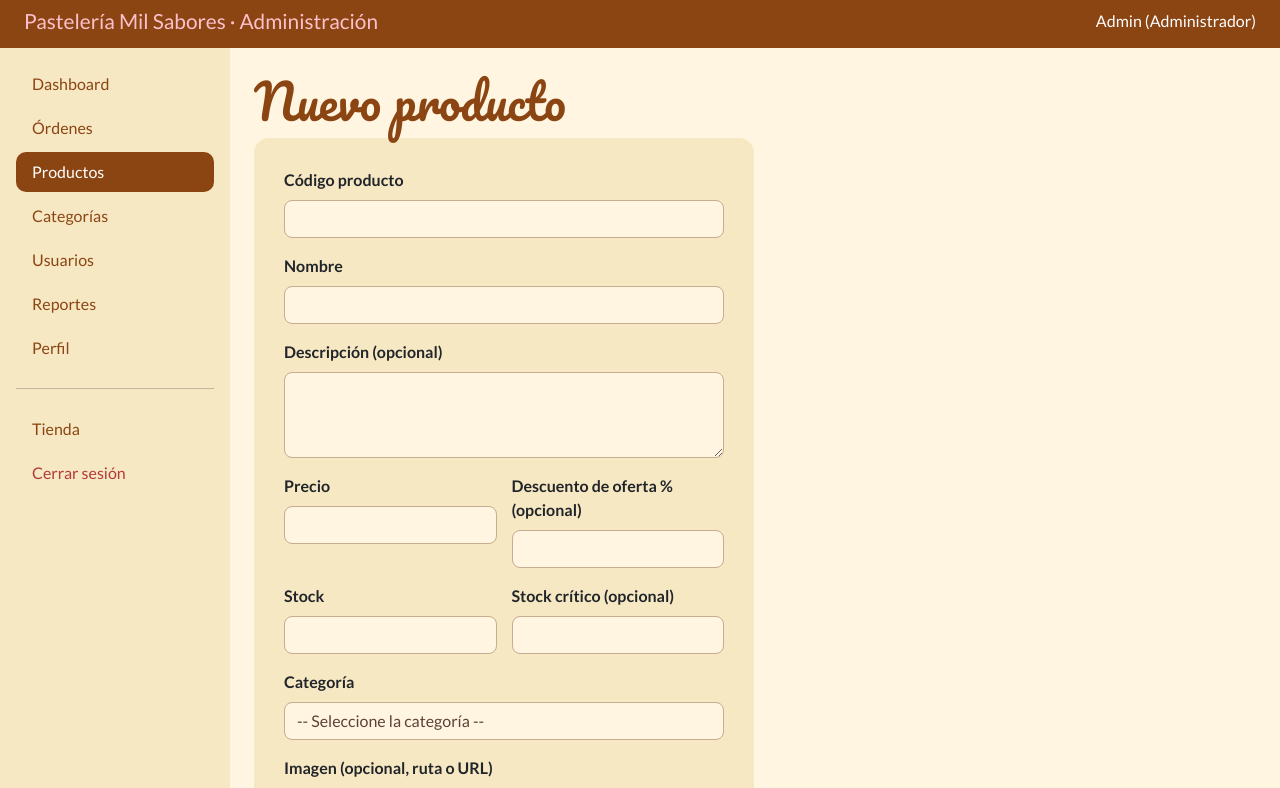
it: Admin: formulario de producto › crea un producto nuevo y vuelve al listado
Type "TX001" into the field labelled "Código producto" at (504, 219), box [284,200,724,238]
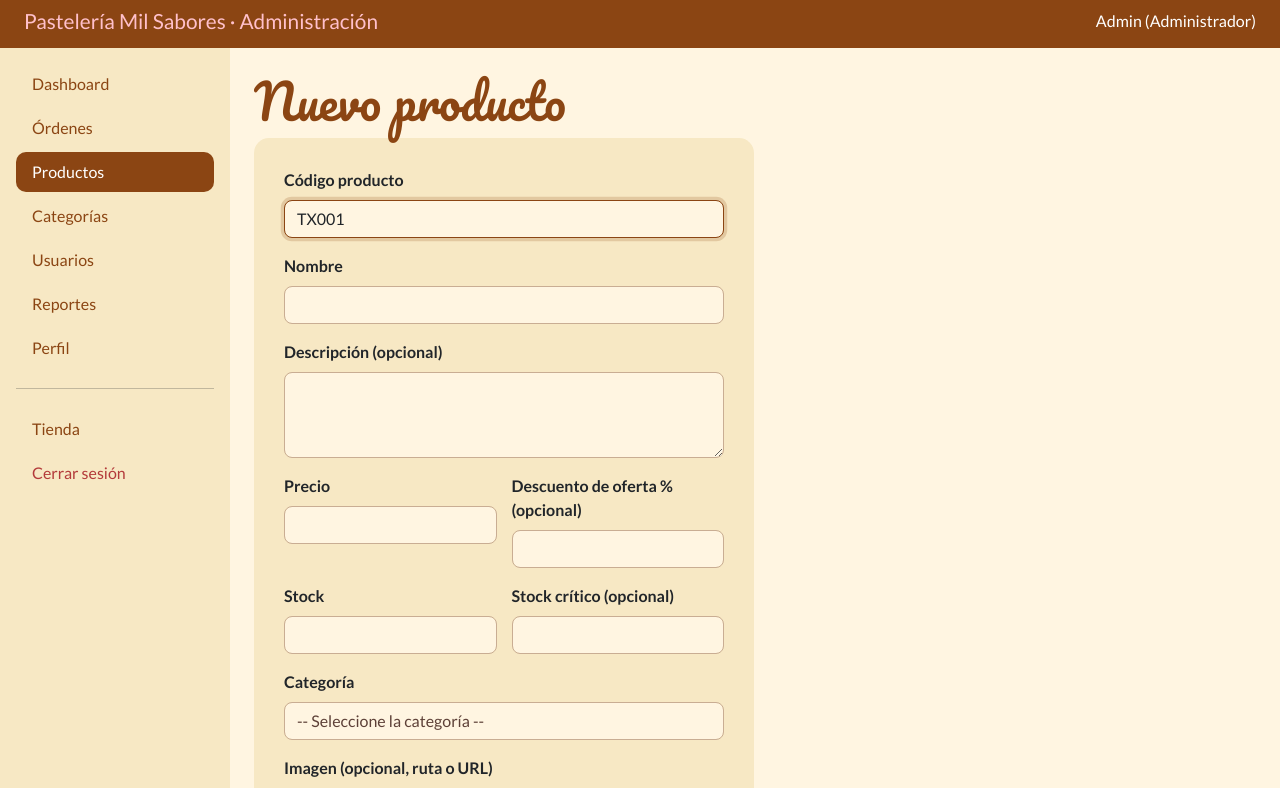
Type "Torta de Prueba" into the field labelled "Nombre" at (504, 305), box [284,286,724,324]
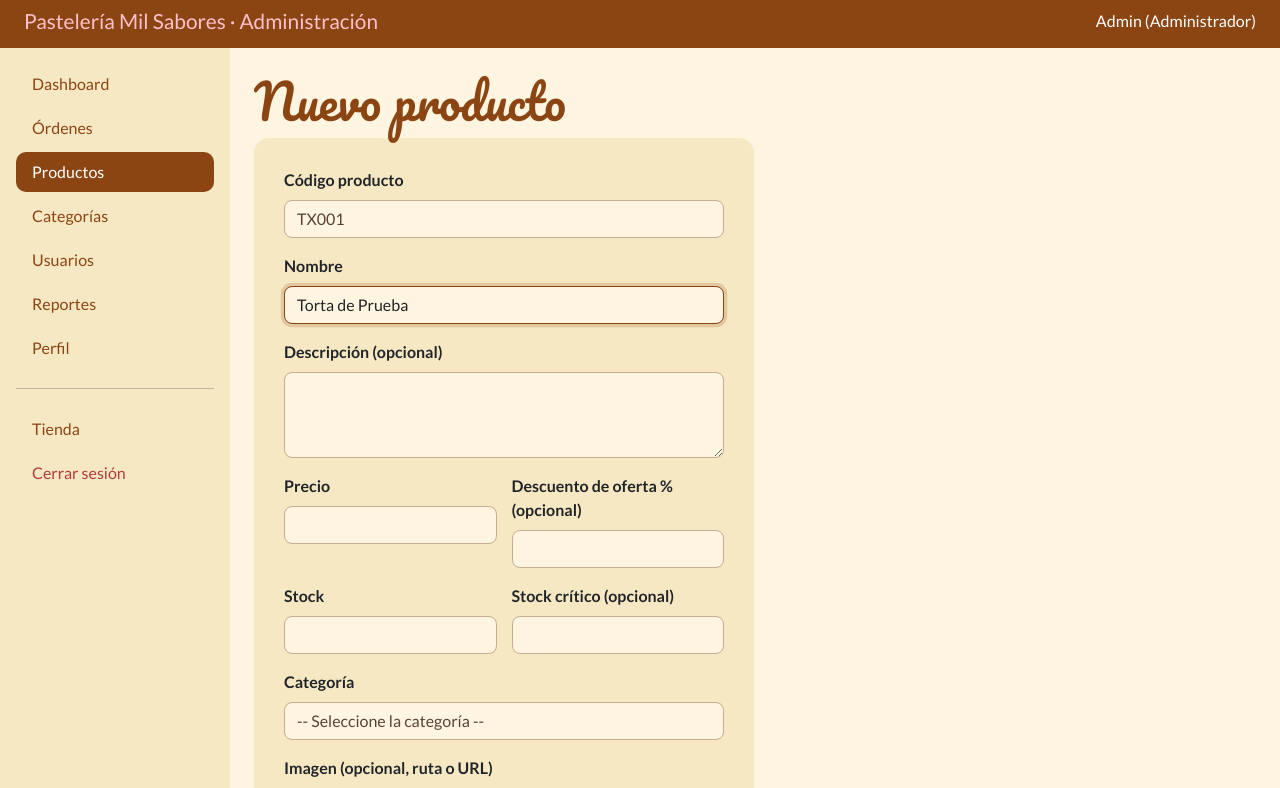
Type "1000" into the number field labelled "Precio" at (390, 525), box [284,506,496,544]
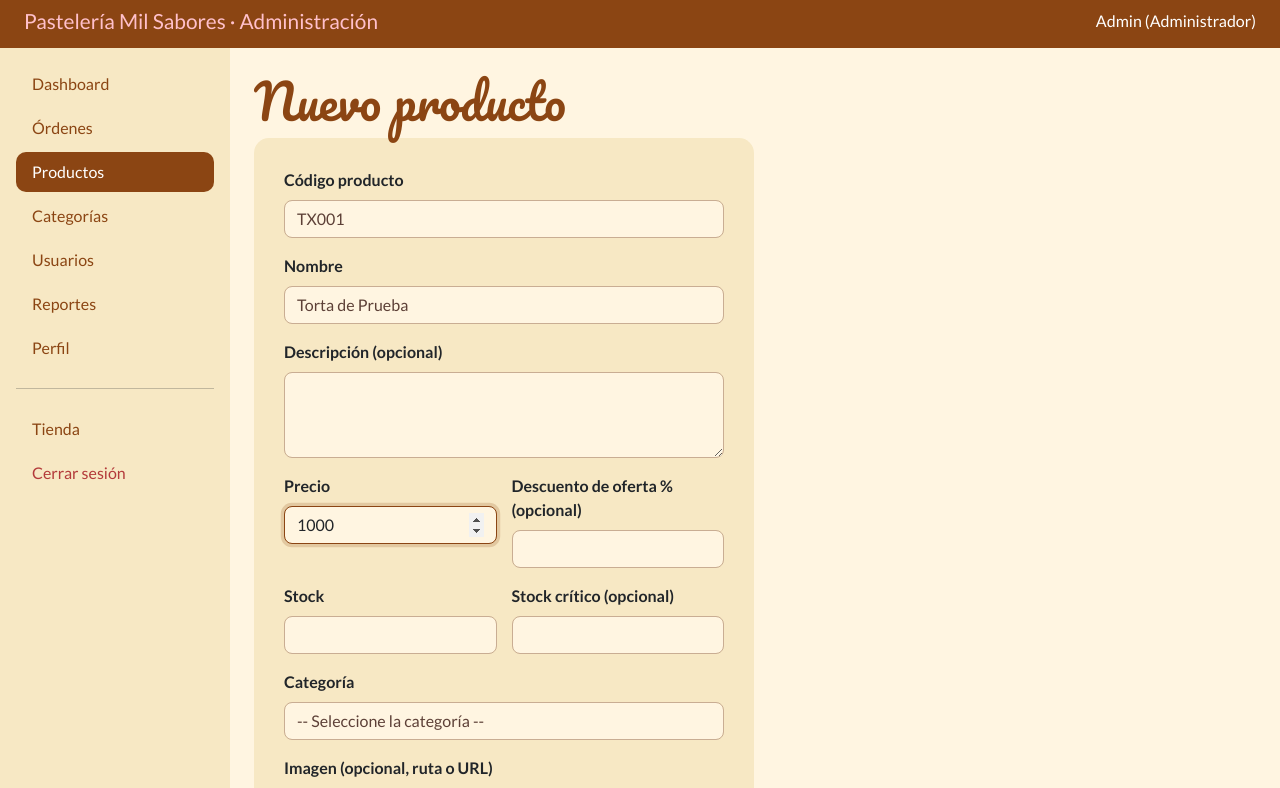
Type "5" into the number field labelled "Stock" at (390, 635), box [284,616,496,654]
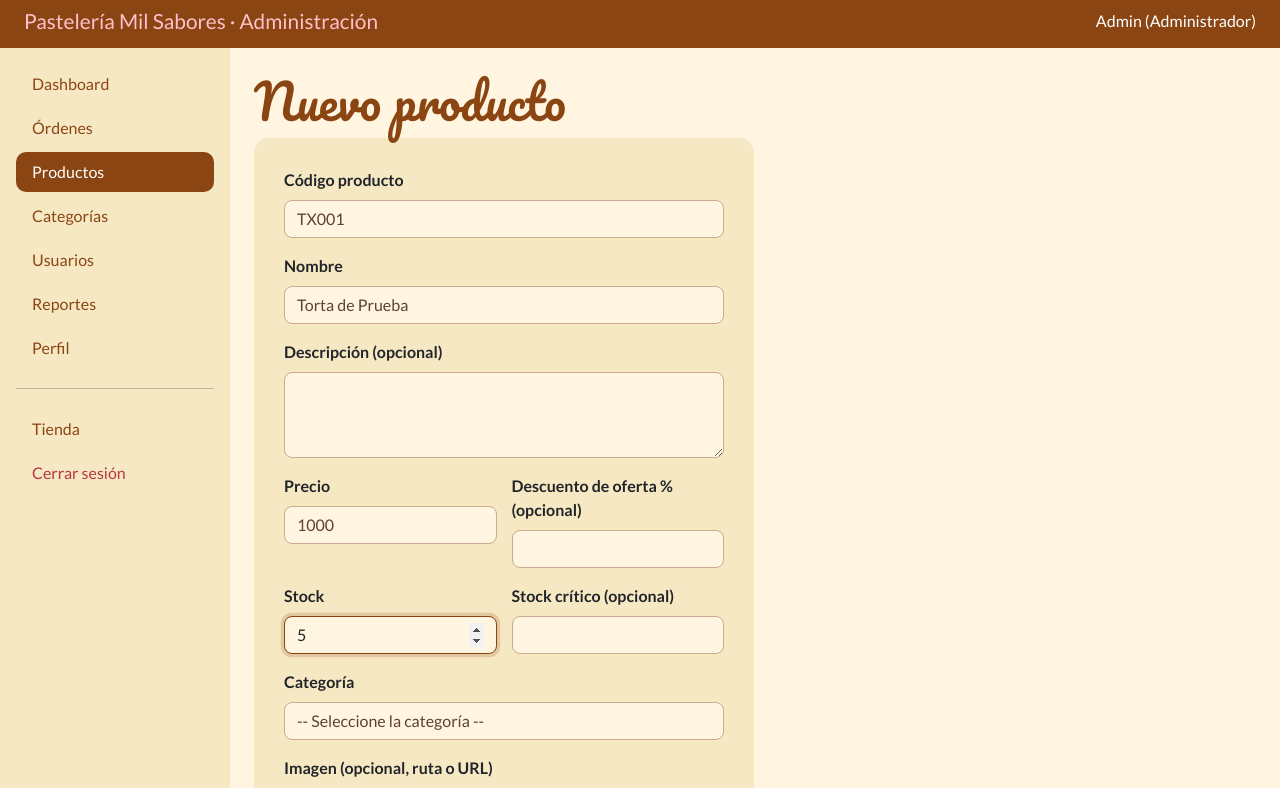
Select "Tortas Especiales" in the dropdown labelled "Categoría" at (504, 721), box [284,702,724,740]
(page scrolled)
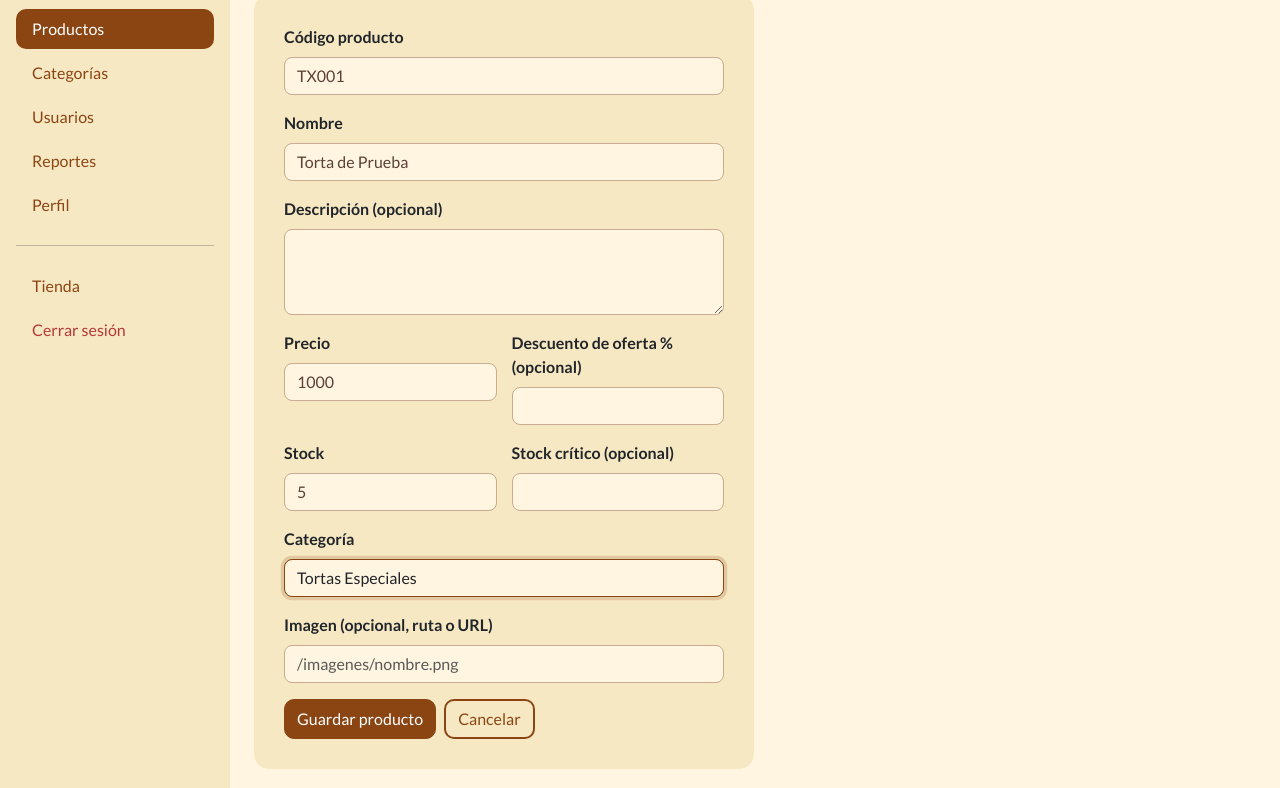
Click the button "Guardar producto" at (360, 719), box [284,699,436,739]
(page scrolled)
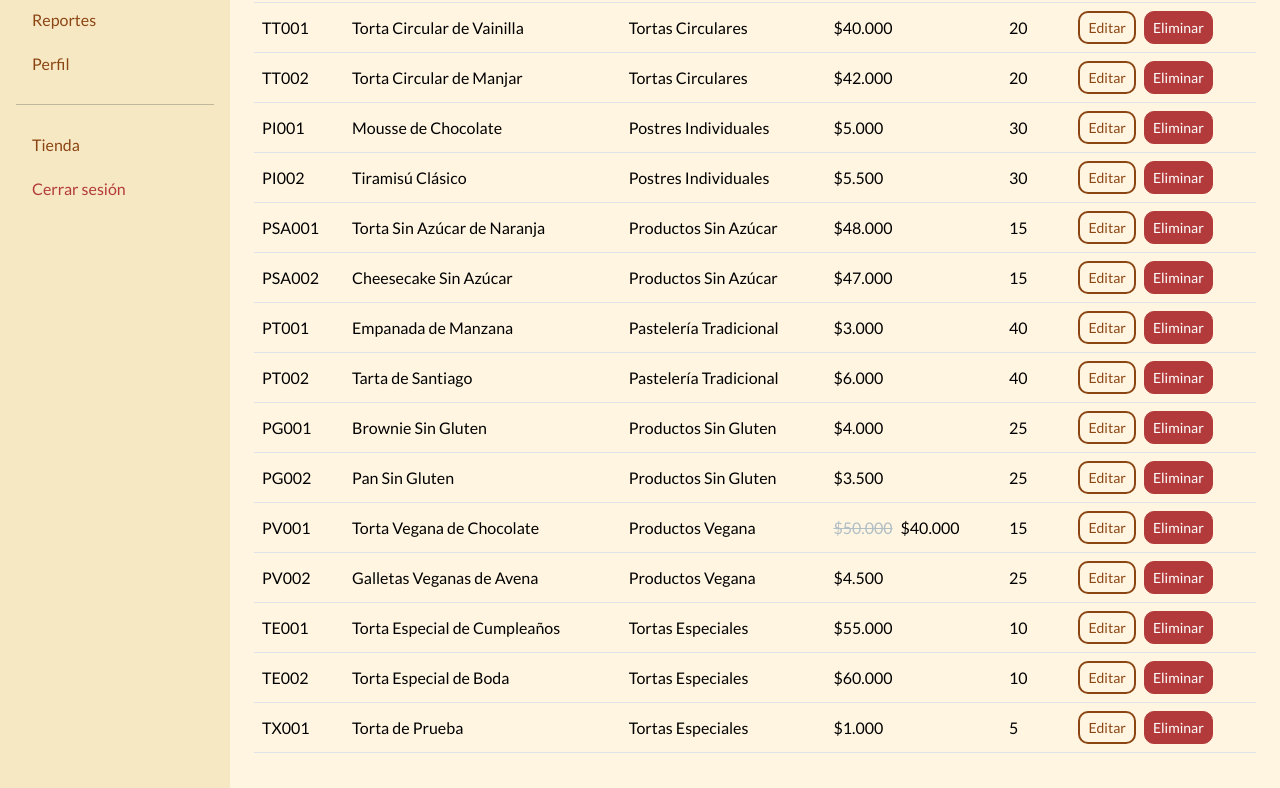
Expected: the text "Torta de Prueba" is shown, [344,703,621,753]
